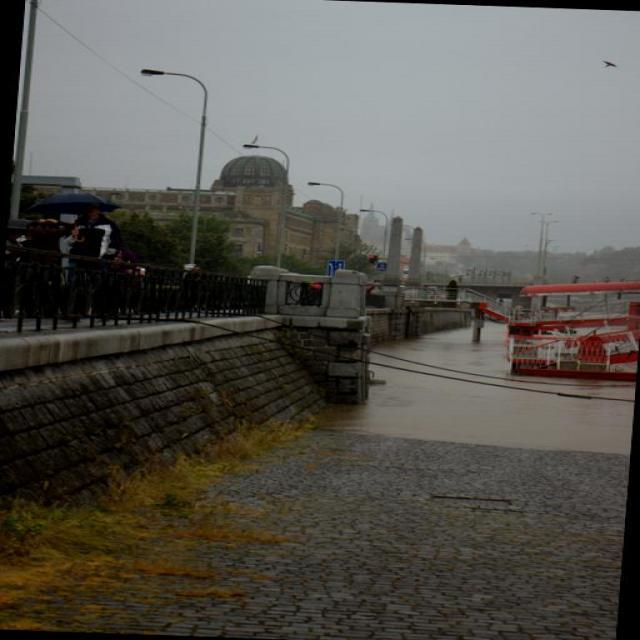flood: (333, 303, 639, 457)
